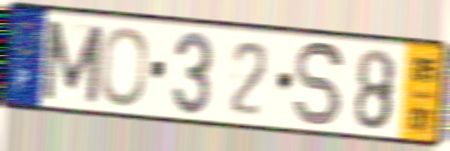2: (227, 38, 270, 118)
3: (169, 28, 214, 117)
8: (353, 47, 398, 133)
M: (39, 17, 106, 107)
O: (98, 24, 150, 110)
S: (291, 38, 346, 131)
